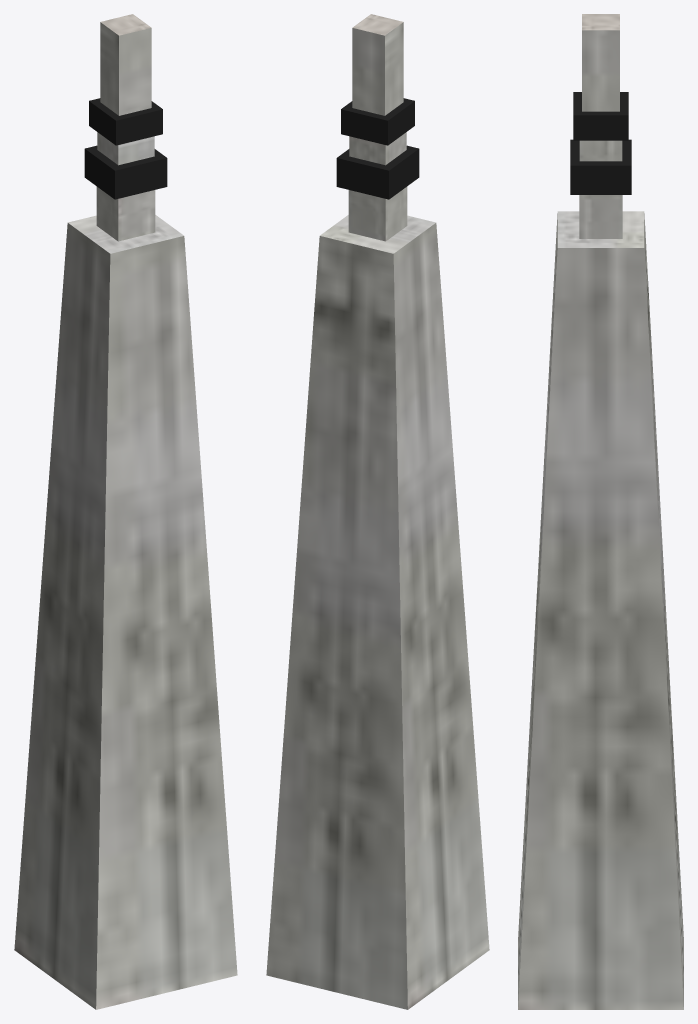
Rendered from Pillar.fbx.
3 renders of one model, left to right at view 1: azimuth 30°, elevation 25°; view 2: azimuth 150°, elevation 25°; view 3: azimuth 270°, elevation 25°, orthographic.
Visible parts, largest first — view 1: Cube; view 2: Cube; view 3: Cube.
Boxes of the visible parts, x1,y1,x2,y2 form: Cube: [14, 14, 237, 1009]; Cube: [266, 14, 489, 1009]; Cube: [518, 14, 683, 1009].
Size of the model in its own units: 105 by 664 by 105.
Materials: 2 (1 with a texture image).
